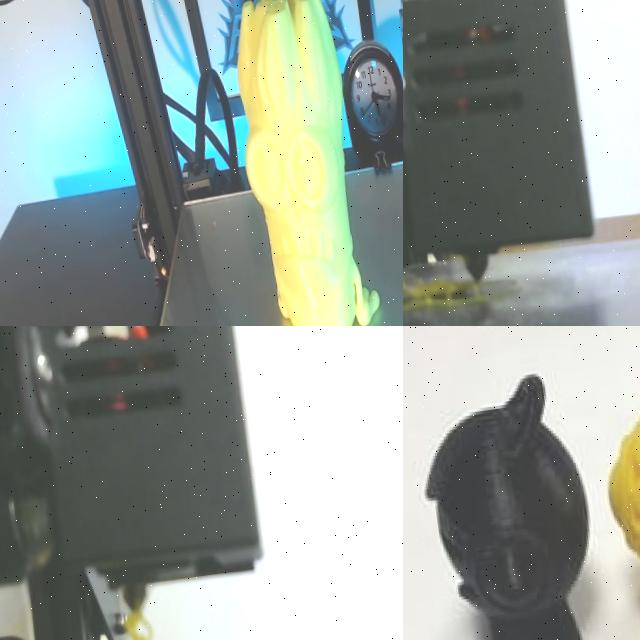spaghetti: (403, 274, 486, 313)
